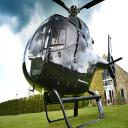helicopter: (19, 2, 125, 127)
